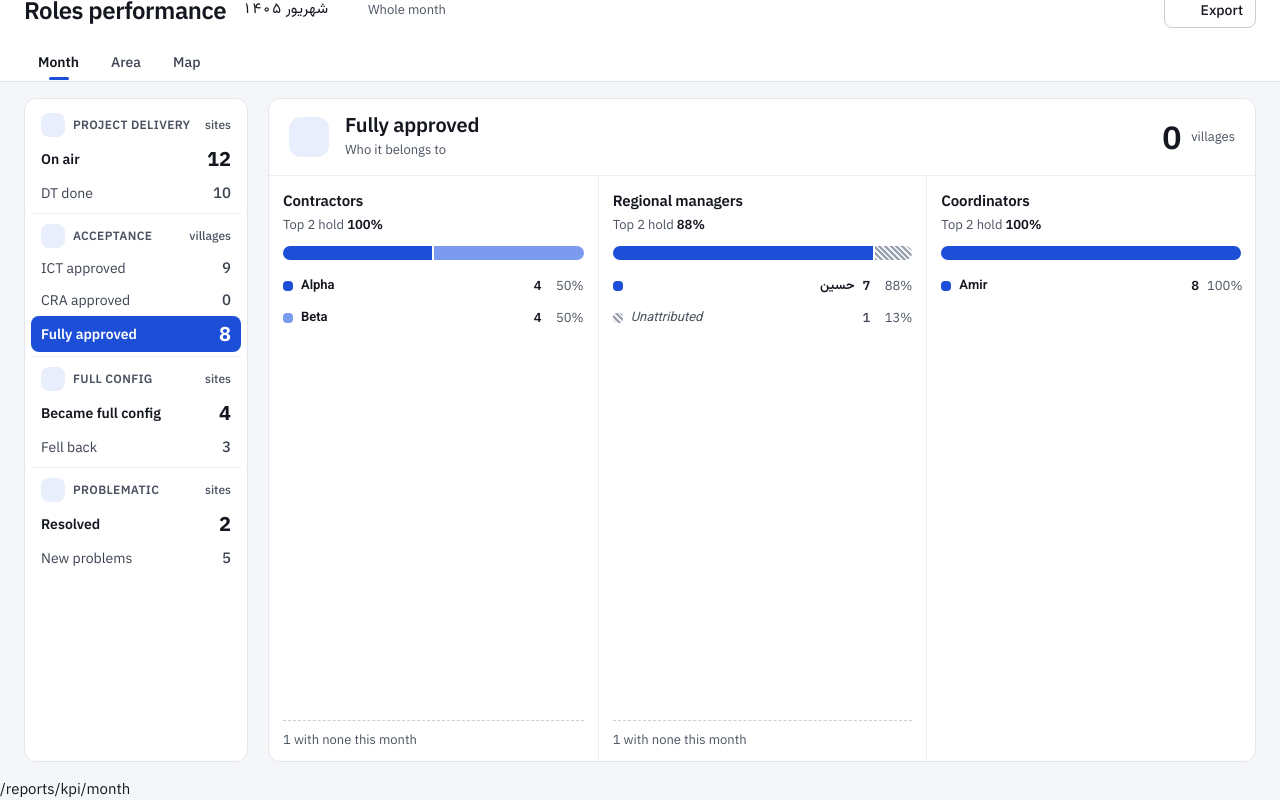
Test: Month › opens the picker from the title: future months off, This month so far works
(page scrolled)
Click the button with aria-label "Choose month": (299, 10) [238, 0, 360, 21]
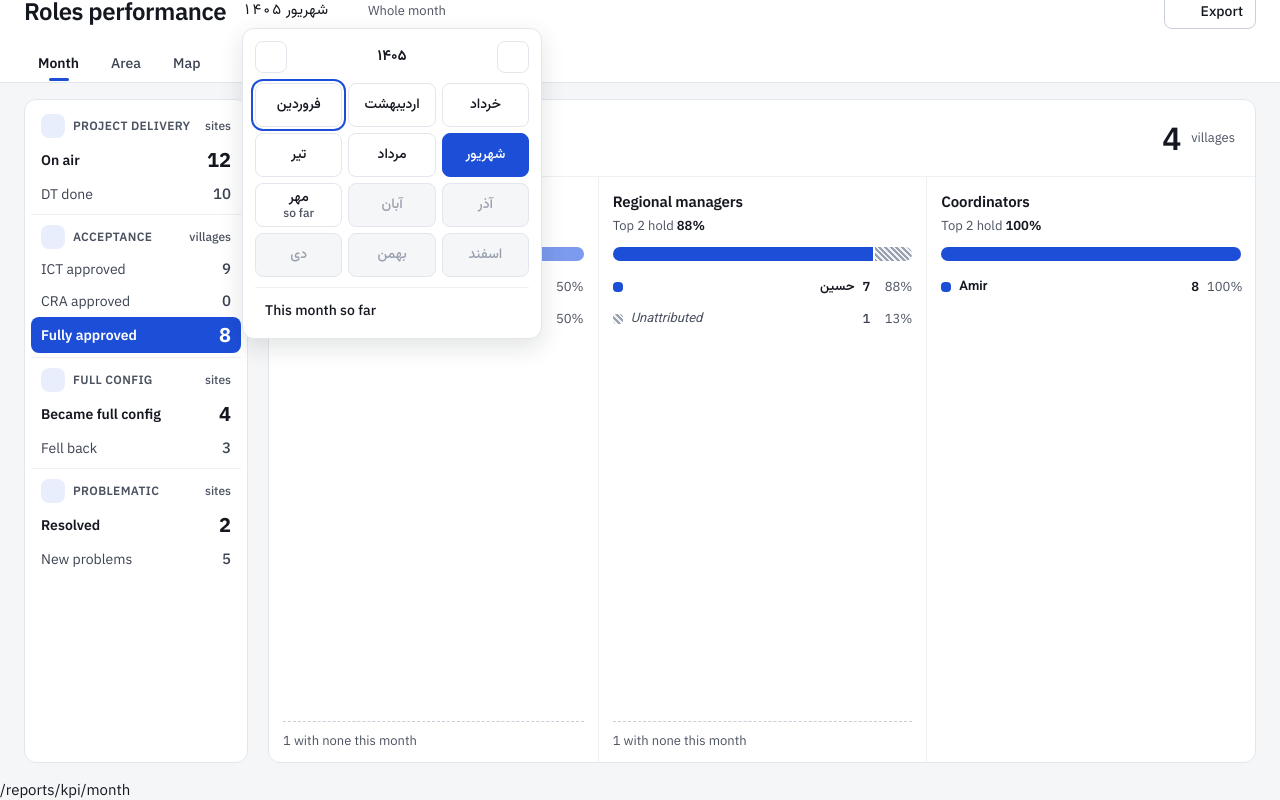
expect the button named "Next year" is disabled: met, box [497, 41, 529, 73]
expect the button "آبان" is disabled: met, box [348, 183, 436, 227]
expect the button "مهر so far" is shown: met, box [255, 183, 342, 227]
Click the button "This month so far": (321, 310) [255, 294, 529, 326]
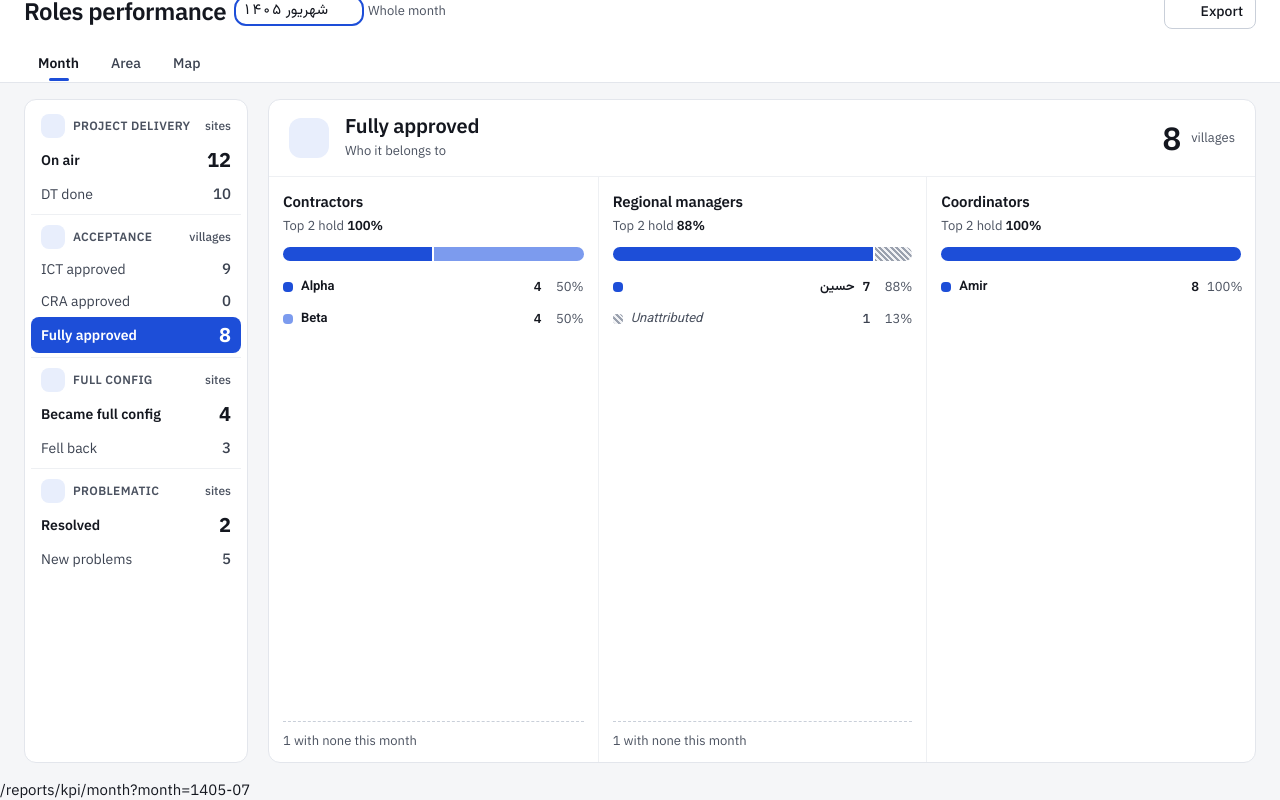
expect the text with test id "where" shows "month=1405-07": met, box [0, 780, 250, 799]
expect the dialog is gone: met
